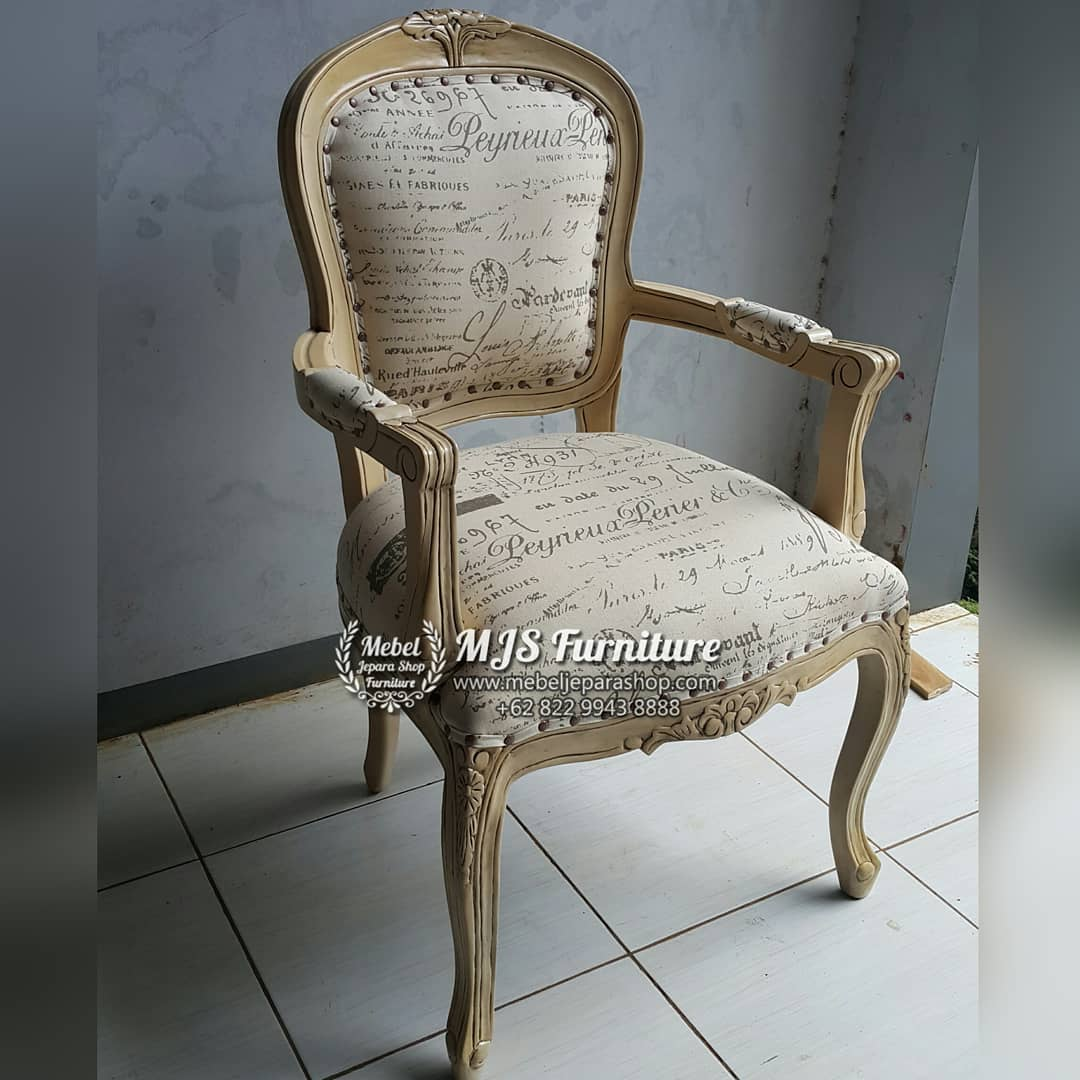Carving Chair: (289, 25, 931, 1027)
